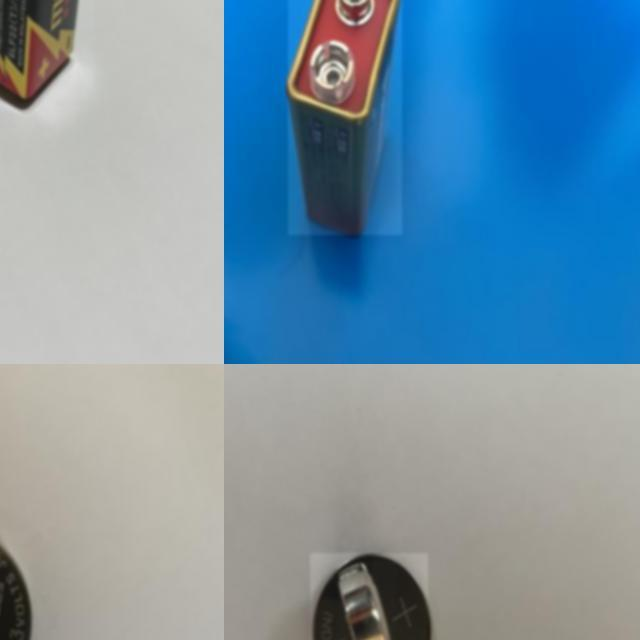9V: (288, 0, 402, 235), (0, 0, 95, 99)
